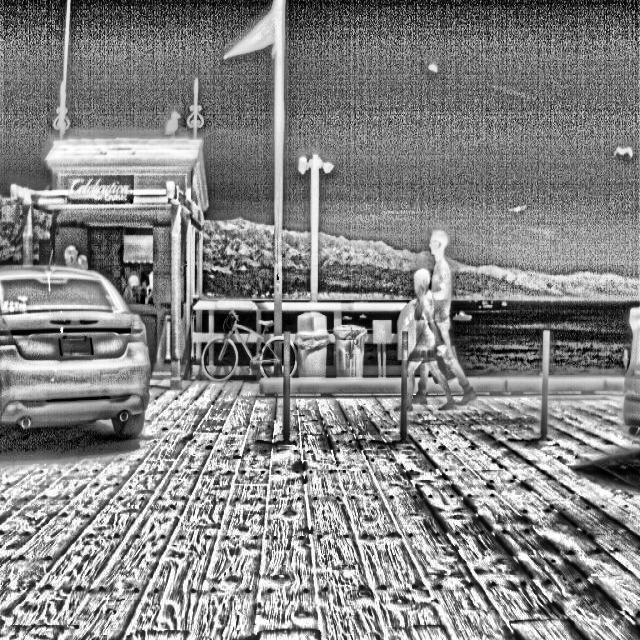car: (0, 239, 162, 459)
person and bycle: (409, 228, 472, 397), (397, 235, 439, 407)
